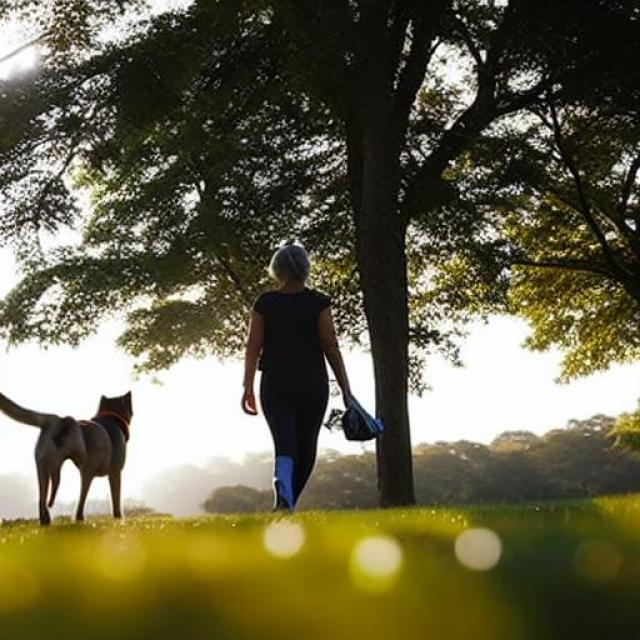Unleashed_Dog: (0, 376, 329, 524)
